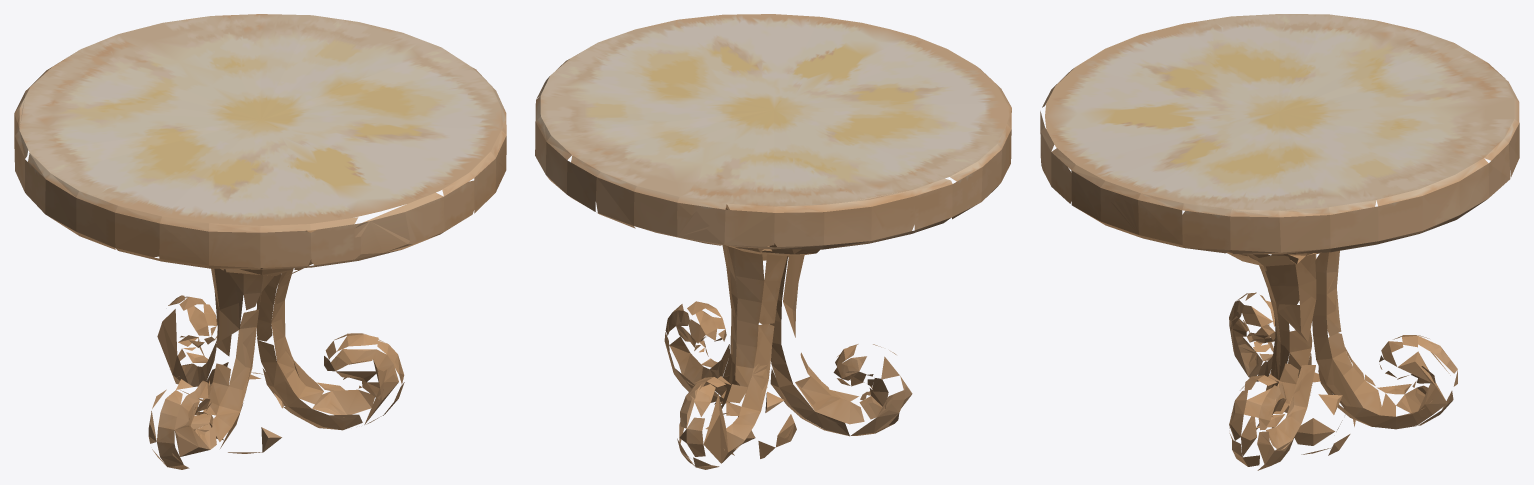
File: g_f_table.glb
The picture shows the model from 3 angles, left to right: view 1: azimuth 30°, elevation 25°; view 2: azimuth 150°, elevation 25°; view 3: azimuth 270°, elevation 25°; orthographic projection. The views are drawn at different scales.
Parts seen in each view (by area): view 1: geometry_0; view 2: geometry_0; view 3: geometry_0.
Boxes of the visible parts, x1,y1,x2,y2 form: geometry_0: (14,14,506,469); geometry_0: (535,14,1011,469); geometry_0: (1040,14,1519,470).
Size of the model in its own units: 0.1613 by 0.1259 by 0.1584.
